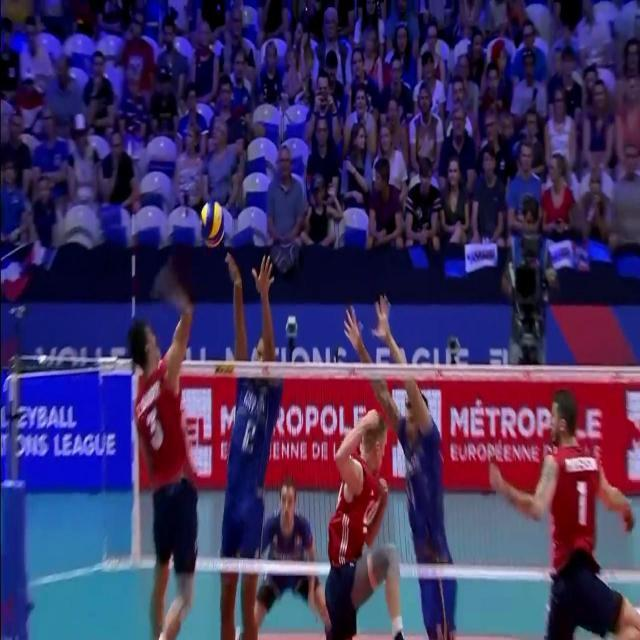volleyball: (200, 200, 224, 248)
